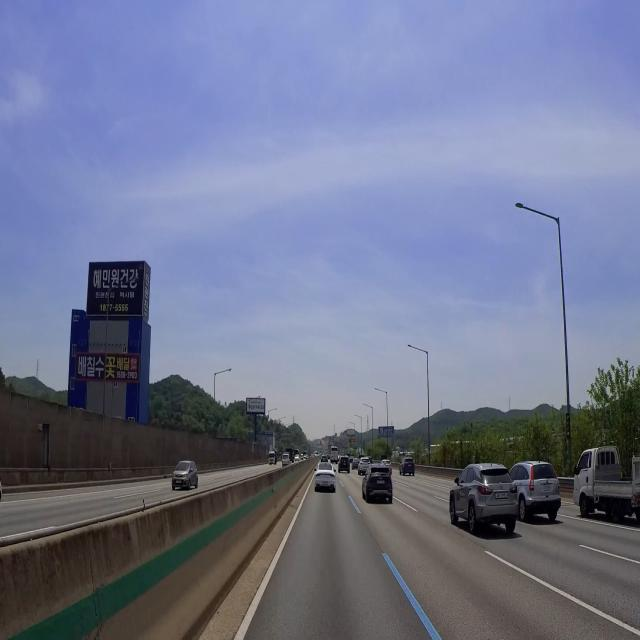car: (494, 489, 513, 504), (540, 479, 554, 496), (320, 478, 333, 489), (375, 477, 386, 488), (175, 477, 184, 488)
